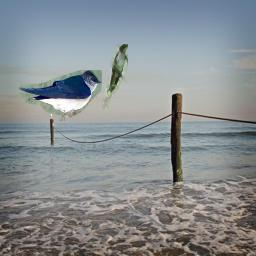Cuckoo: (102, 44, 128, 111)
Swallow: (19, 70, 102, 121)
